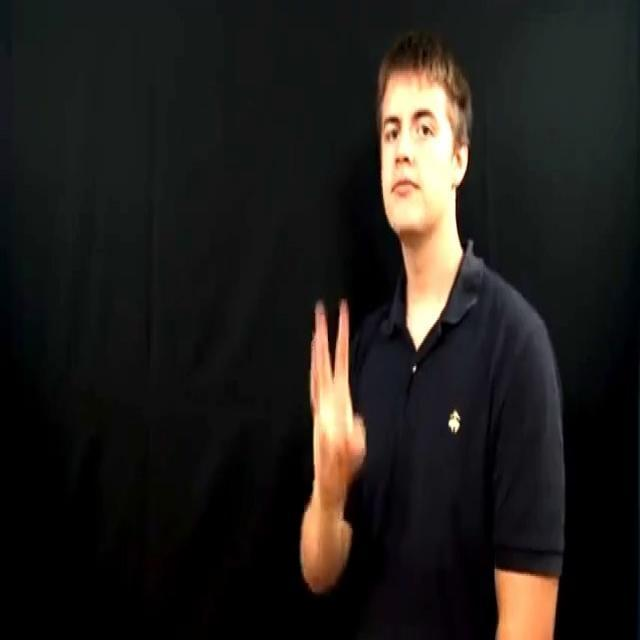water: (302, 292, 368, 492)
